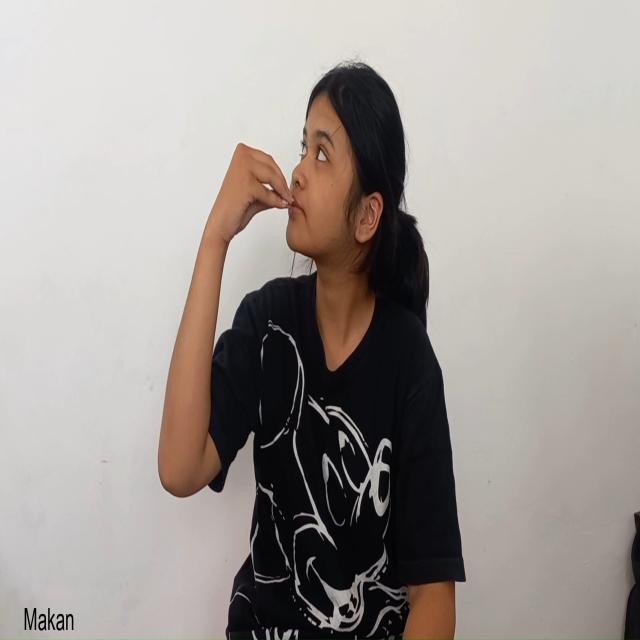Makan -BISINDO-: (180, 62, 395, 335)
